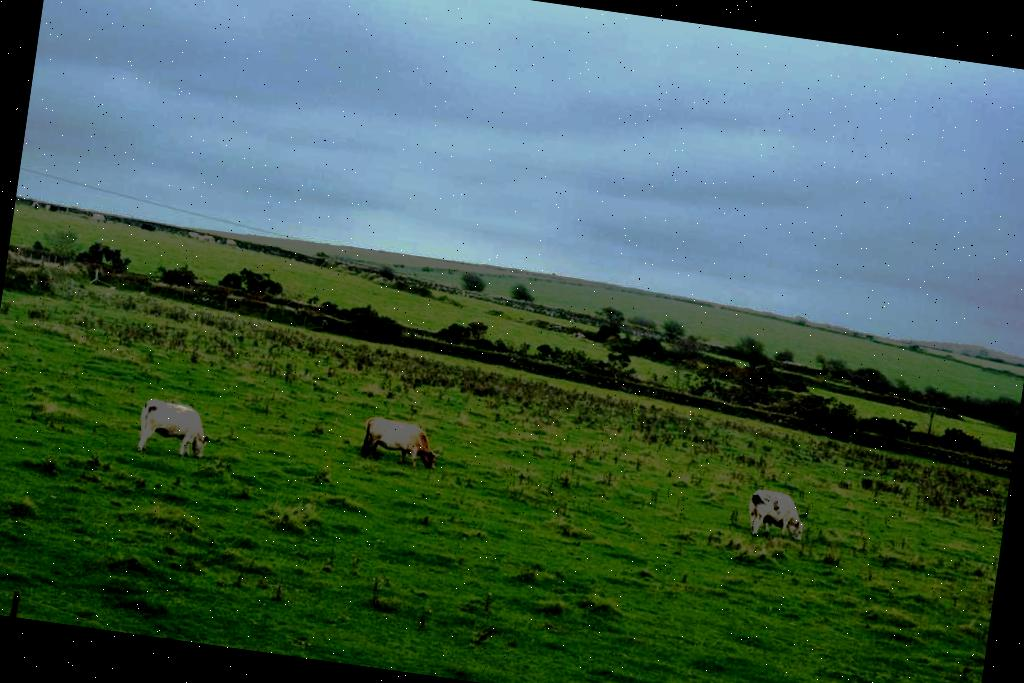Sheep: (735, 480, 813, 556)
